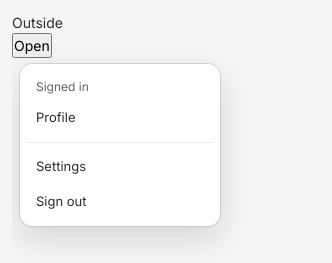
Test: Menu › closes on outside mousedown but not on inside mousedown
This screenshot has width=332, height=263.
Earlier steps of the test are not shown.
Expected: the menu is shown, [20, 64, 220, 226]
Click the text "Outside".
click(38, 22)  # box [12, 14, 63, 31]
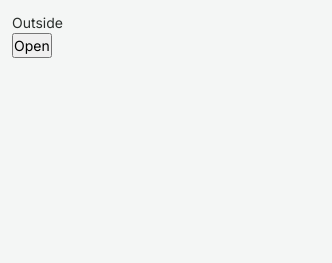
Expected: the menu is gone
